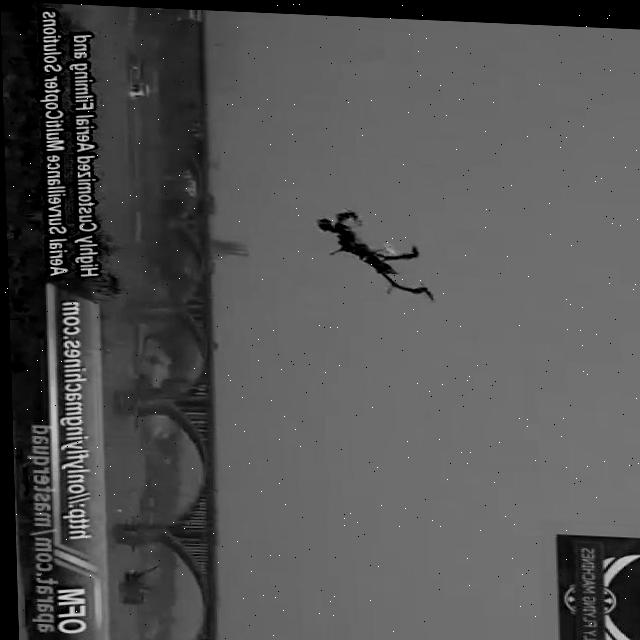drone: (313, 201, 438, 301)
